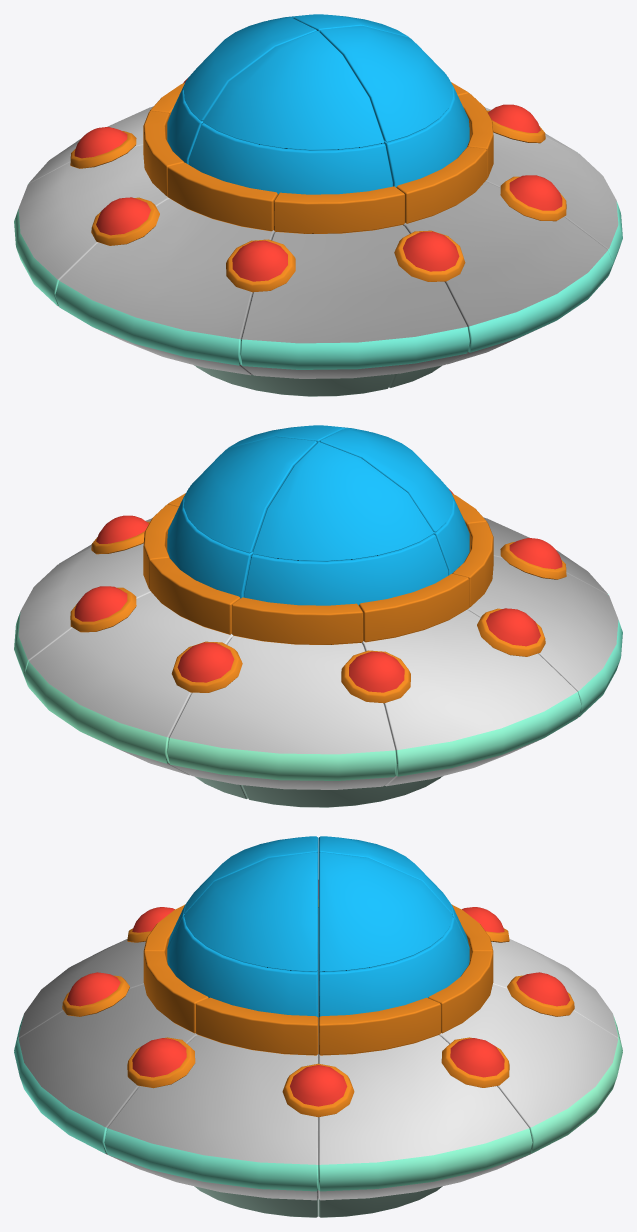
3 views of the same model, one above another, from view 1: azimuth 30°, elevation 25°; view 2: azimuth 150°, elevation 25°; view 3: azimuth 270°, elevation 25° (orthographic).
Parts seen in each view (by area): view 1: Cube_L1 11.001, Cube_L1 1.001, Cube_L1 28.001, Cube_L1 18.001, Cube_L1 2.001, Cube_L1 10.001, Cube_L1 21.001, Cube_L1 38.001, Cube_L1 13.001, Cube_L1 17.001, Cube_L1 5.001, Cube_L1 29.001 (+13 smaller); view 2: Cube_L1 12.001, Cube_L1 2.001, Cube_L1 27.001, Cube_L1 17.001, Cube_L1 1.001, Cube_L1 9.001, Cube_L1 22.001, Cube_L1 37.001, Cube_L1 14.001, Cube_L1 18.001, Cube_L1 6.001, Cube_L1 30.001 (+13 smaller); view 3: Cube_L1 38.001, Cube_L1 37.001, Cube_L1 28.001, Cube_L1 27.001, Cube_L1 21.001, Cube_L1 22.001, Cube_L1 29.001, Cube_L1 30.001, Cube_L1 33.001, Cube_L1 34.001, Cube_L1 12.001, Cube_L1 11.001 (+15 smaller).
Boxes of the visible parts, <box> form: Cube_L1 11.001: <box>240,225,469,378</box>; Cube_L1 1.001: <box>55,199,274,375</box>; Cube_L1 28.001: <box>403,181,612,364</box>; Cube_L1 18.001: <box>203,31,384,150</box>; Cube_L1 2.001: <box>14,145,169,306</box>; Cube_L1 10.001: <box>188,123,392,194</box>; Cube_L1 21.001: <box>320,26,453,142</box>; Cube_L1 38.001: <box>485,132,622,275</box>; Cube_L1 13.001: <box>273,186,404,233</box>; Cube_L1 17.001: <box>183,17,317,121</box>; Cube_L1 5.001: <box>167,162,277,231</box>; Cube_L1 29.001: <box>384,77,469,187</box>; Cube_L1 12.001: <box>167,636,396,789</box>; Cube_L1 2.001: <box>362,610,581,786</box>; Cube_L1 27.001: <box>24,592,233,775</box>; Cube_L1 17.001: <box>252,442,433,561</box>; Cube_L1 1.001: <box>467,556,622,717</box>; Cube_L1 9.001: <box>244,534,448,605</box>; Cube_L1 22.001: <box>183,437,316,553</box>; Cube_L1 37.001: <box>14,543,151,686</box>; Cube_L1 14.001: <box>232,597,363,644</box>; Cube_L1 18.001: <box>319,428,453,532</box>; Cube_L1 6.001: <box>359,573,469,642</box>; Cube_L1 30.001: <box>167,488,252,598</box>; Cube_L1 38.001: <box>104,986,318,1200</box>; Cube_L1 37.001: <box>318,1035,532,1200</box>; Cube_L1 28.001: <box>14,984,197,1167</box>; Cube_L1 27.001: <box>439,984,622,1167</box>; Cube_L1 21.001: <box>184,852,318,972</box>; Cube_L1 22.001: <box>318,852,452,972</box>; Cube_L1 29.001: <box>167,917,318,1017</box>; Cube_L1 30.001: <box>318,917,469,1017</box>; Cube_L1 33.001: <box>318,997,440,1055</box>; Cube_L1 34.001: <box>196,997,318,1055</box>; Cube_L1 12.001: <box>491,939,622,1050</box>; Cube_L1 11.001: <box>14,939,145,1050</box>.
Size of the model in its own units: 6.58 by 3.88 by 6.58.
